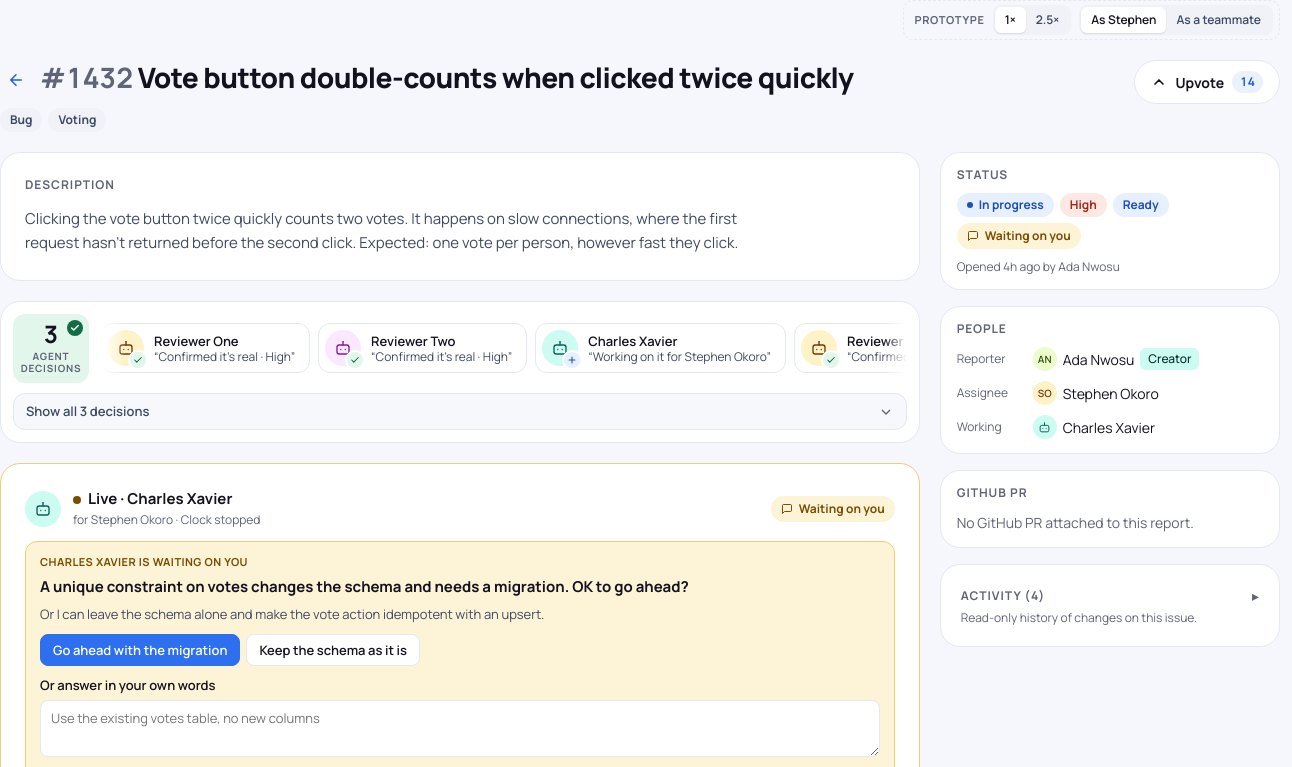
Test case: IssueRun › stops for a question and takes the answer
Check: the text "Charles Xavier is waiting on you" is shown, box [40,554,248,569]
Check: the text "Waiting on you" is shown 2 times, box [771,496,895,522]; [957,223,1081,249]
Click the button "Keep the schema as it is" at point(333, 650), box [246,634,420,666]
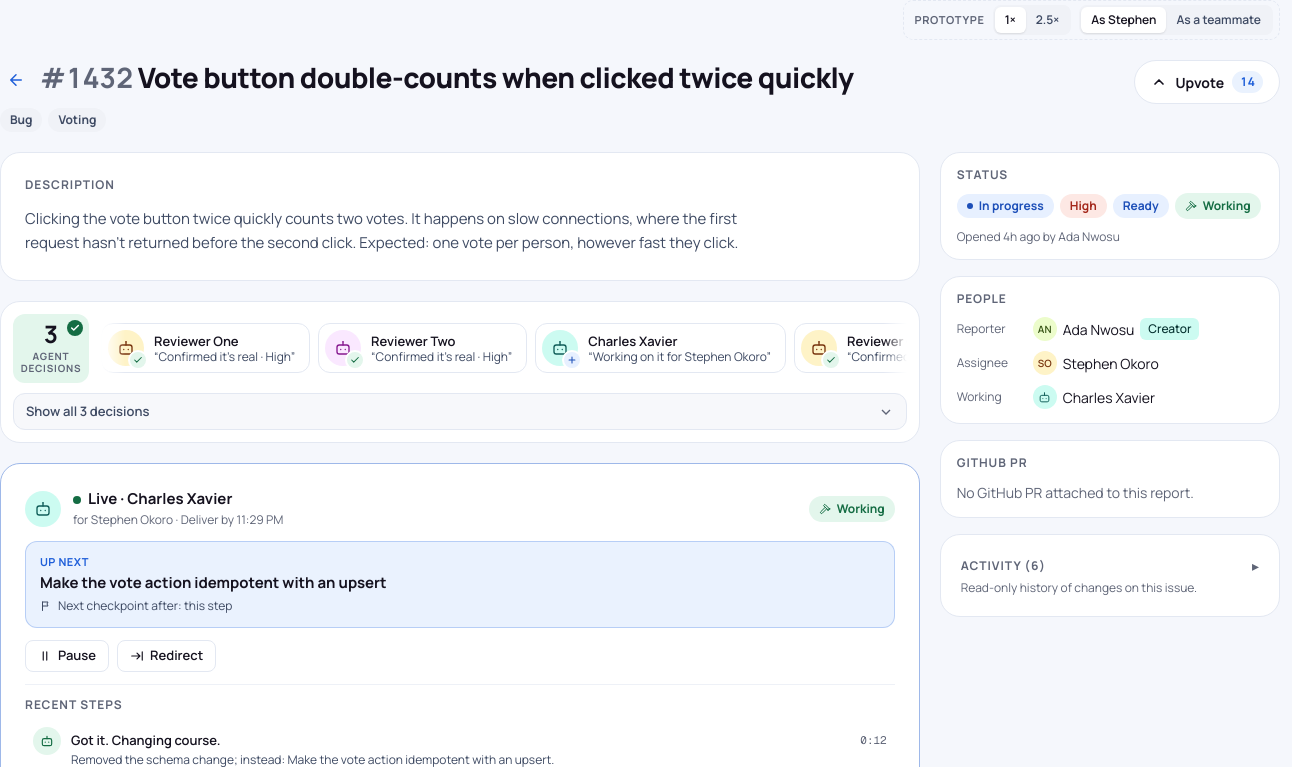
Check: the text "Charles Xavier is waiting on you" is gone
Check: the text with class "run-next-title" reads "Make the vote action idempotent with an upsert", box [40,572,387,593]
